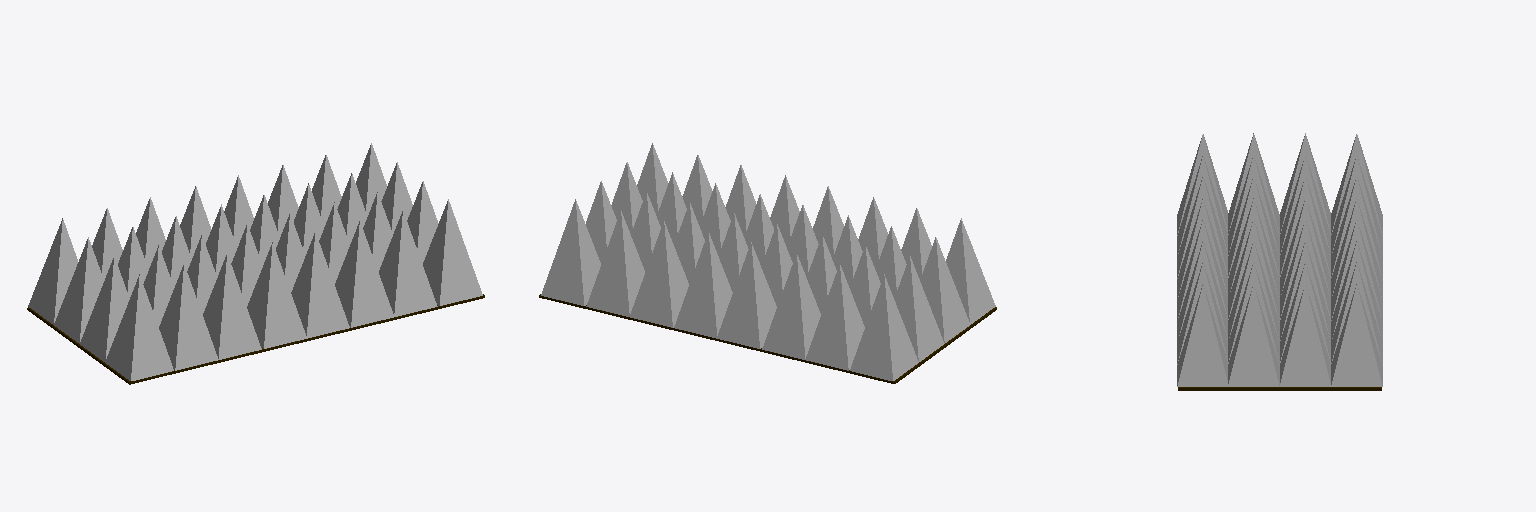
File: Spikes2.obj
3 views of the same model, side by side, from view 1: azimuth 30°, elevation 25°; view 2: azimuth 150°, elevation 25°; view 3: azimuth 270°, elevation 25° (orthographic).
Visible parts, largest first — view 1: Pyramid011, Pyramid028, Pyramid018, Pyramid009, Pyramid019, Pyramid004, Pyramid023, Pyramid035, Pyramid013, Pyramid014, Pyramid012, Box001 (+21 smaller); view 2: Pyramid014, Pyramid032, Pyramid015, Pyramid010, Pyramid029, Pyramid005, Pyramid024, Pyramid036, Pyramid012, Pyramid013, Pyramid011, Pyramid016 (+21 smaller); view 3: Pyramid032, Pyramid030, Pyramid028, Pyramid031, Pyramid022, Pyramid005, Pyramid024, Pyramid003, Pyramid001, Pyramid014, Pyramid020, Pyramid023 (+21 smaller).
Part boxes in pixels (bbox=[...]): Pyramid011: bbox=[105, 274, 173, 380]; Pyramid028: bbox=[423, 199, 482, 305]; Pyramid018: bbox=[247, 242, 306, 348]; Pyramid009: bbox=[159, 264, 218, 370]; Pyramid019: bbox=[335, 221, 393, 327]; Pyramid004: bbox=[203, 253, 261, 359]; Pyramid023: bbox=[379, 211, 437, 316]; Pyramid035: bbox=[291, 231, 349, 338]; Pyramid013: bbox=[54, 237, 103, 343]; Pyramid014: bbox=[28, 218, 77, 324]; Pyramid012: bbox=[80, 256, 129, 361]; Box001: bbox=[27, 294, 484, 384]; Pyramid014: bbox=[850, 274, 918, 380]; Pyramid032: bbox=[541, 199, 600, 305]; Pyramid015: bbox=[717, 242, 776, 348]; Pyramid010: bbox=[805, 264, 864, 370]; Pyramid029: bbox=[630, 221, 688, 327]; Pyramid005: bbox=[762, 253, 820, 359]; Pyramid024: bbox=[586, 211, 644, 316]; Pyramid036: bbox=[674, 231, 732, 338]; Pyramid012: bbox=[920, 237, 969, 342]; Pyramid013: bbox=[894, 256, 944, 361]; Pyramid011: bbox=[946, 218, 995, 324]; Pyramid016: bbox=[761, 224, 792, 305]; Pyramid032: bbox=[1331, 284, 1382, 386]; Pyramid030: bbox=[1228, 284, 1279, 386]; Pyramid028: bbox=[1177, 284, 1228, 386]; Pyramid031: bbox=[1280, 283, 1330, 386]; Pyramid022: bbox=[1228, 262, 1279, 364]; Pyramid005: bbox=[1331, 177, 1382, 278]; Pyramid024: bbox=[1331, 262, 1382, 364]; Pyramid003: bbox=[1228, 176, 1279, 278]; Pyramid001: bbox=[1280, 175, 1330, 276]; Pyramid014: bbox=[1331, 134, 1382, 235]; Pyramid020: bbox=[1280, 261, 1330, 362]; Pyramid023: bbox=[1177, 262, 1227, 364].
Bounding box in the file's own units: 81.01 × 20.84 × 40.53.